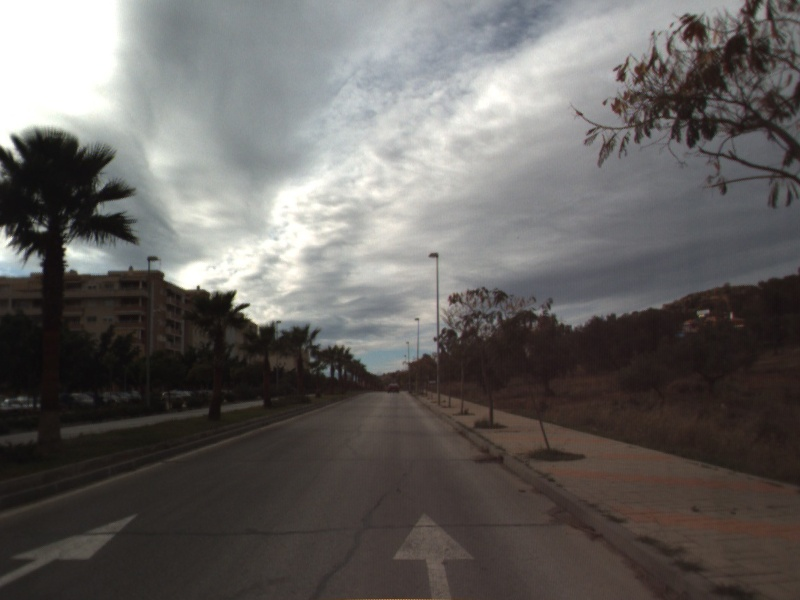STRAIGHT: (1, 510, 143, 589), (390, 510, 477, 600)
